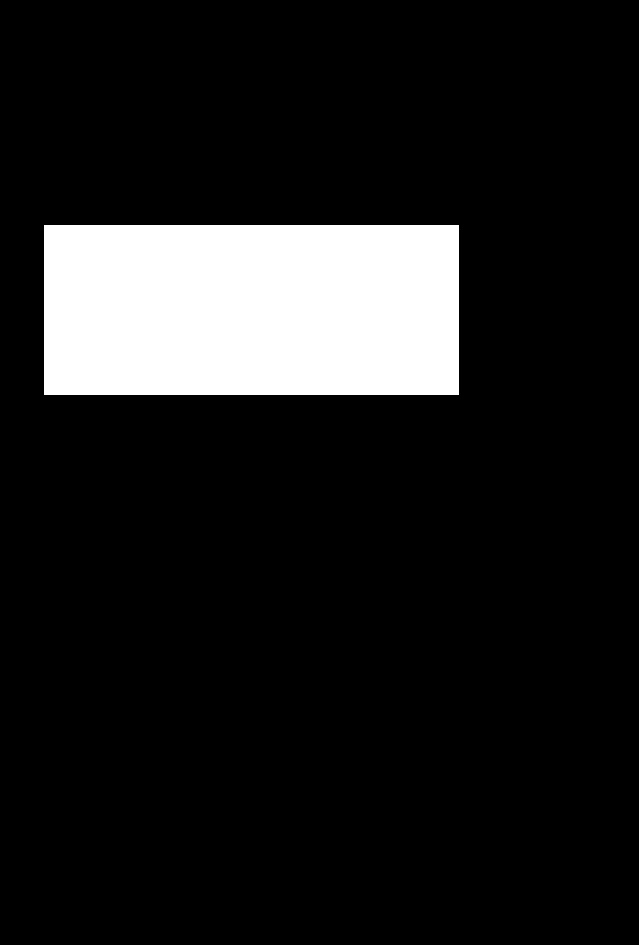table: (44, 225, 458, 394)
